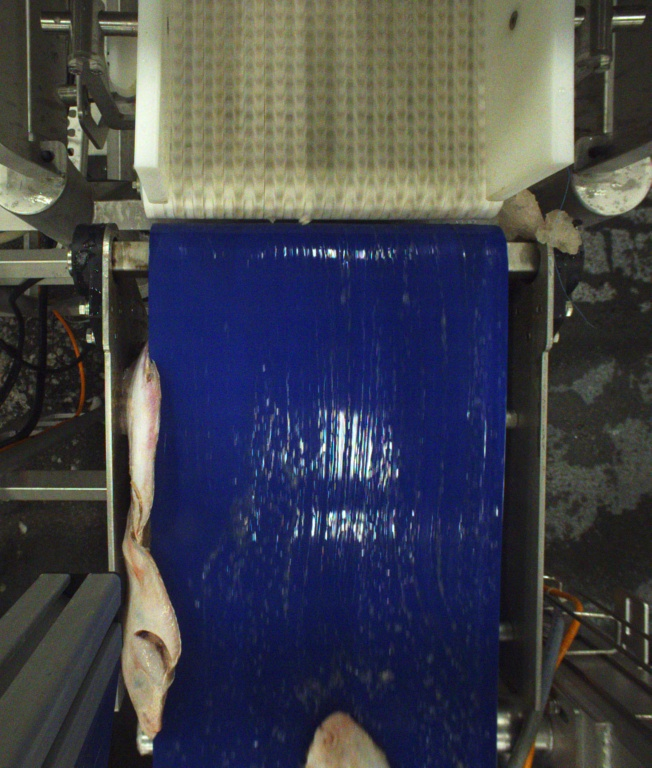SOL: (299, 700, 388, 768)
